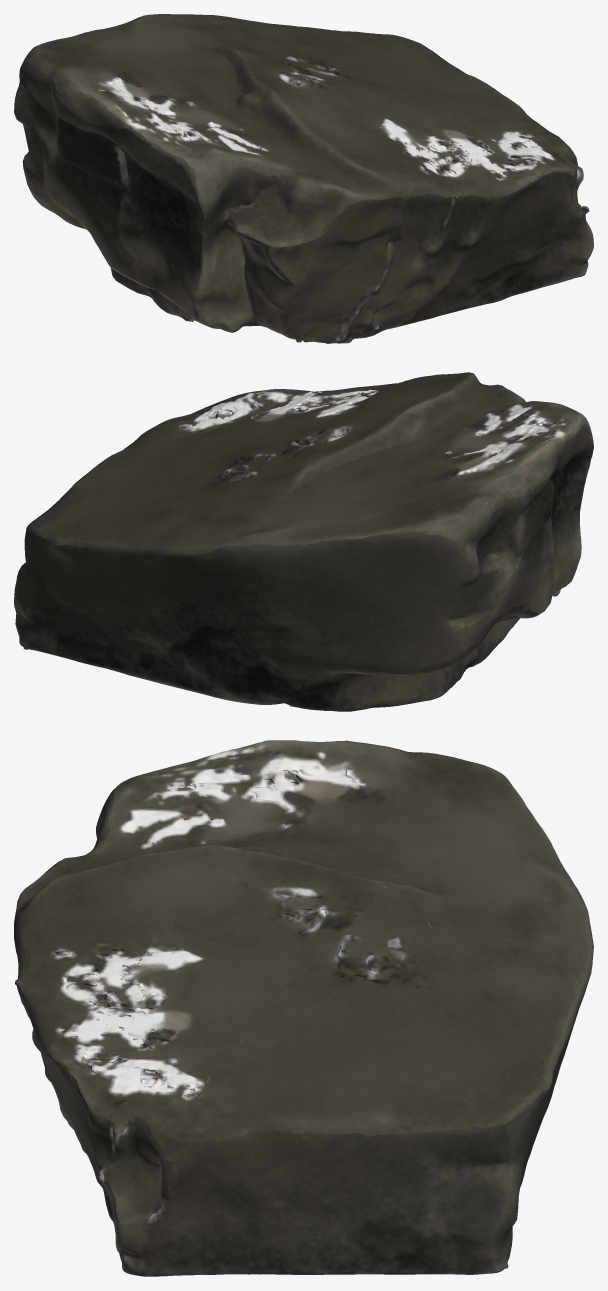
The picture shows the model from 3 angles, top to bottom: view 1: azimuth 30°, elevation 25°; view 2: azimuth 150°, elevation 25°; view 3: azimuth 270°, elevation 25°; orthographic projection. The views are drawn at different scales.
Parts seen in each view (by area): view 1: world; view 2: world; view 3: world.
Boxes of the visible parts, x1,y1,x2,y2 form: world: [14, 14, 593, 343]; world: [14, 372, 593, 711]; world: [14, 740, 593, 1276].
Bounding box in the file's own units: 0.45 × 0.2216 × 0.4125.
1 material, 1 textured.
